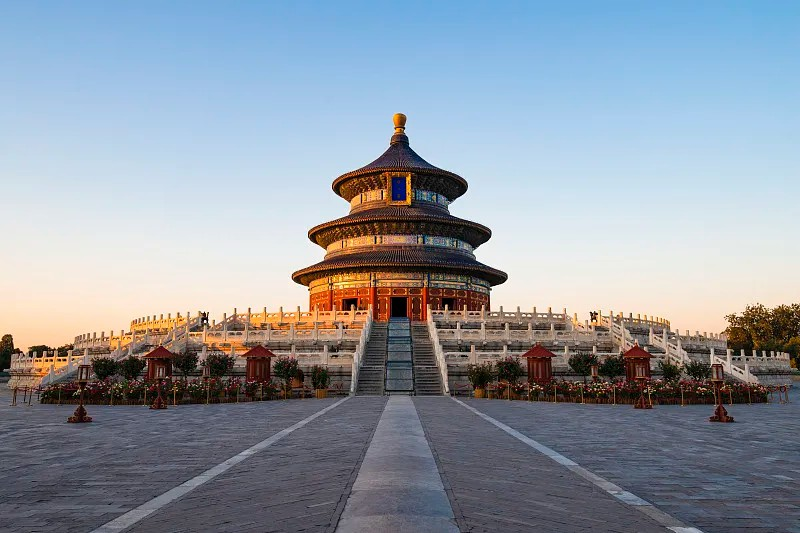Heaven: (292, 113, 510, 323)
